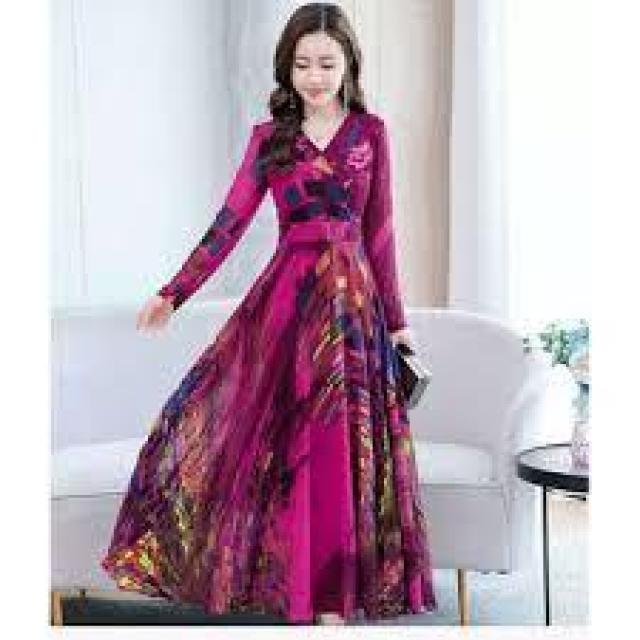dress: (95, 105, 445, 623)
